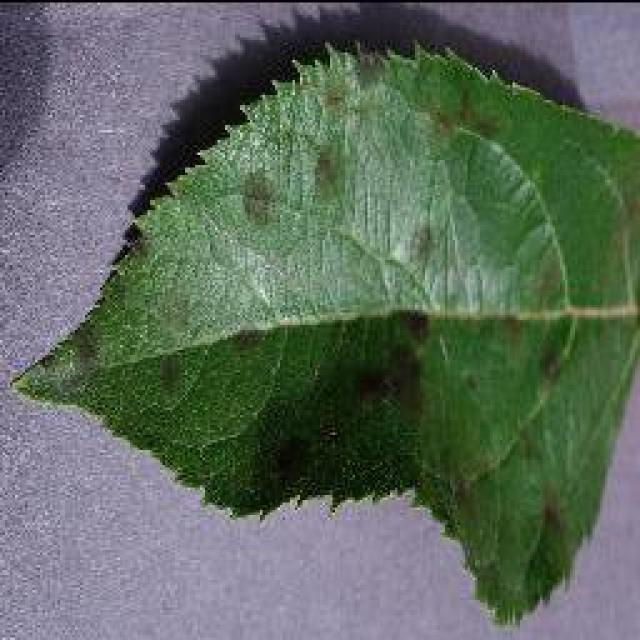apple scab disease: (10, 35, 638, 627)
